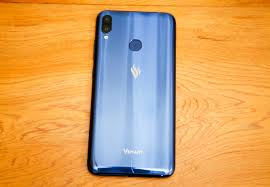vsmart: (81, 7, 180, 178)
